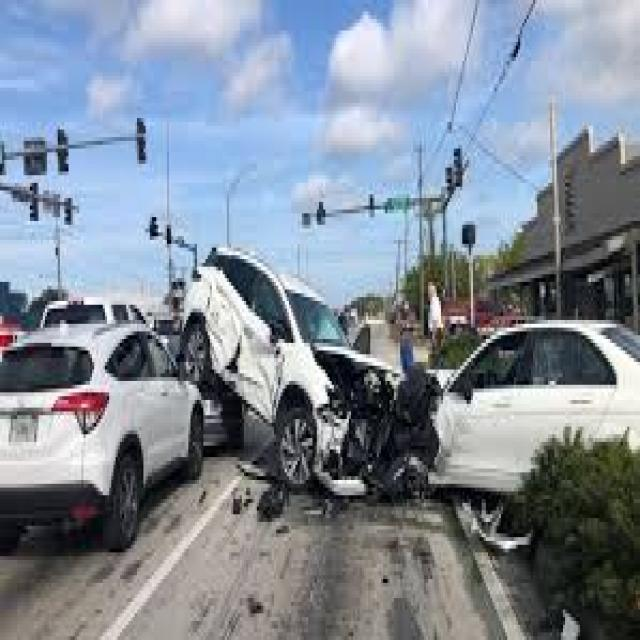accident: (190, 226, 614, 508)
